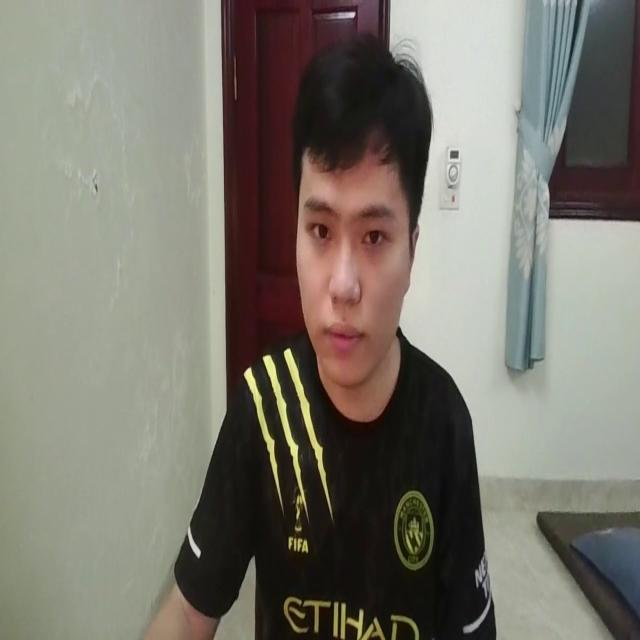student: (148, 28, 495, 640)
